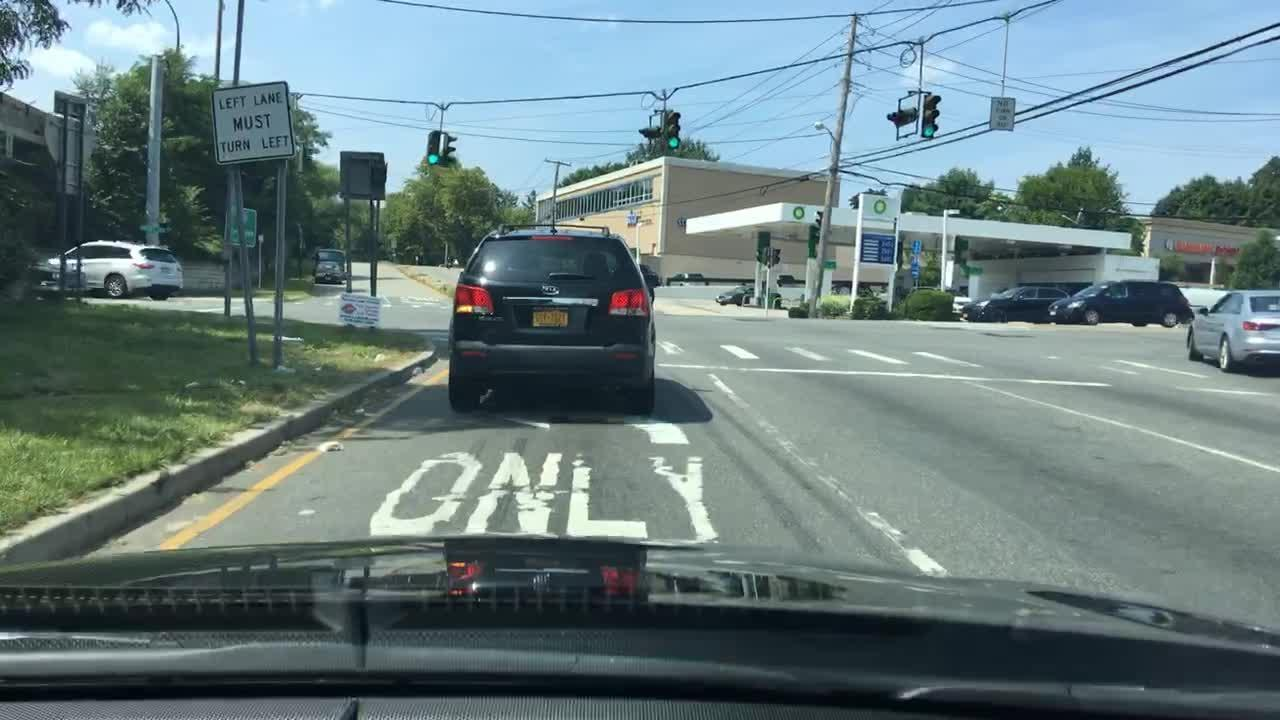kia: (539, 283, 561, 299)
